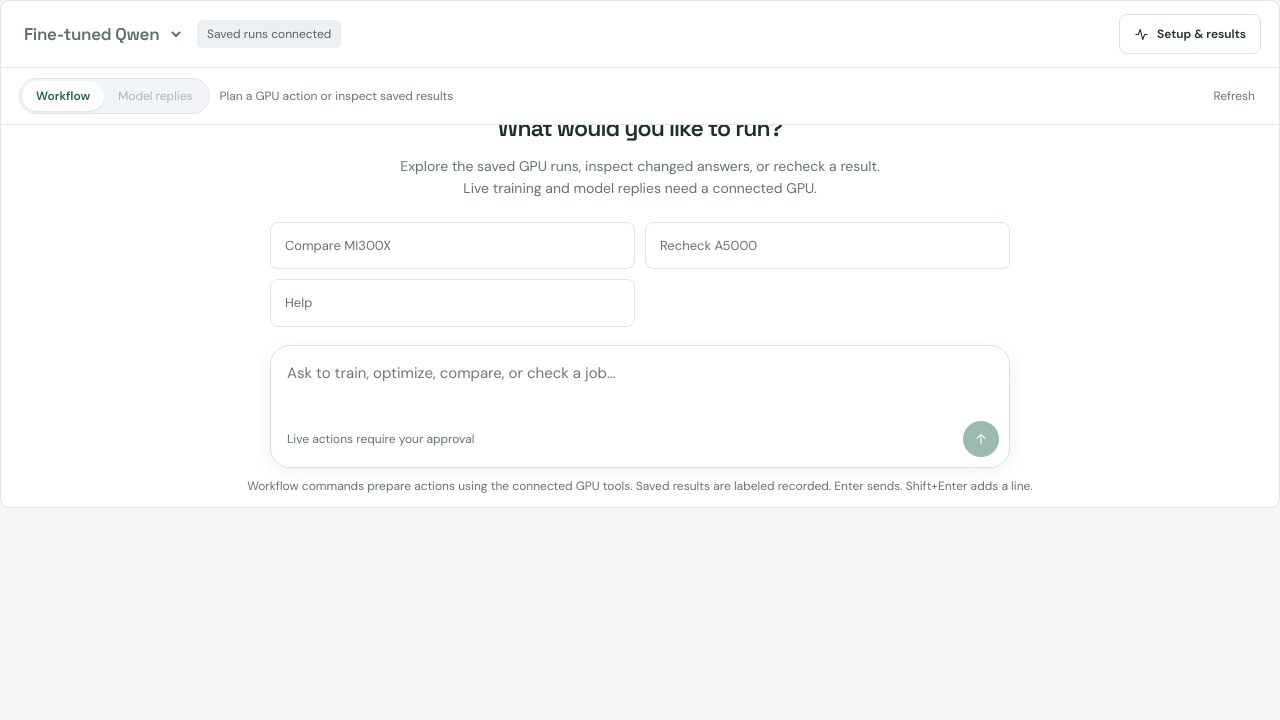
it: read-only workflow commands explain blocked mutations without posting
The image size is (1280, 720).
(page scrolled)
Type "/train-baseline" into the text box named "Message GPU workflow" at (643, 384), box x1=287 y1=354 x2=999 y2=415
Then press Enter
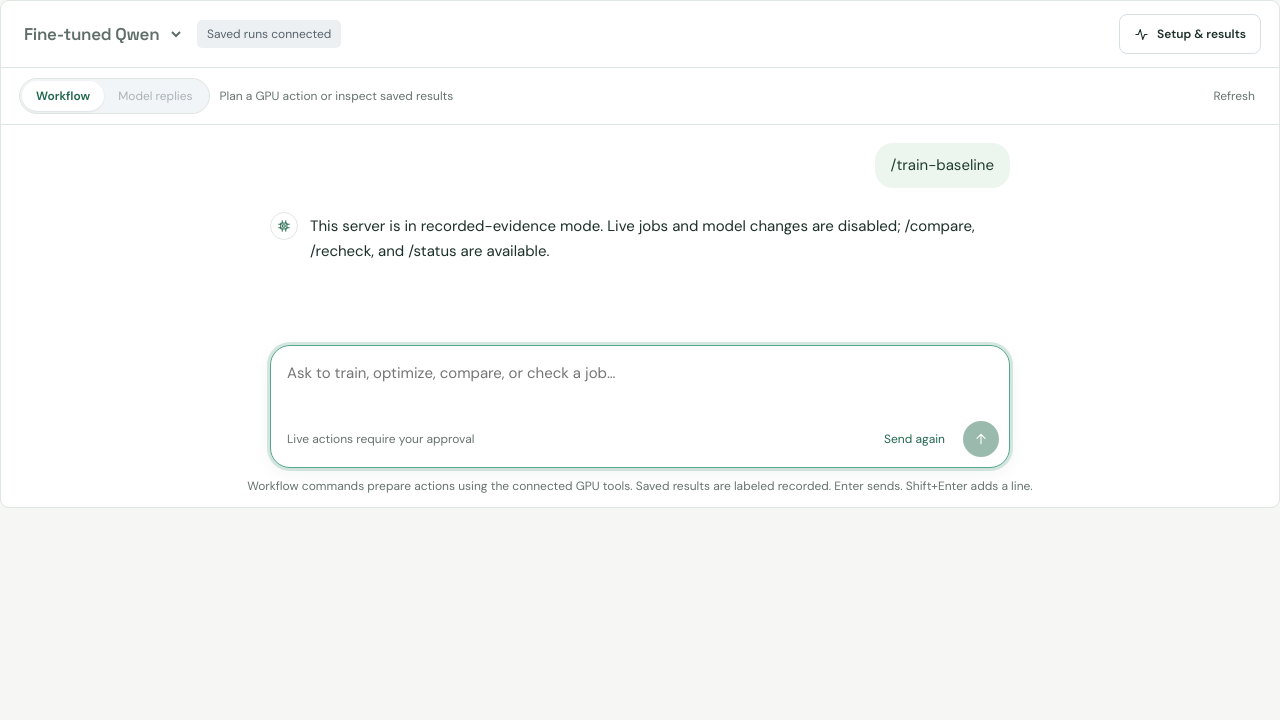
Check: the text "This server is in recorded-evidence mode" is shown, box x1=310 y1=216 x2=979 y2=261
